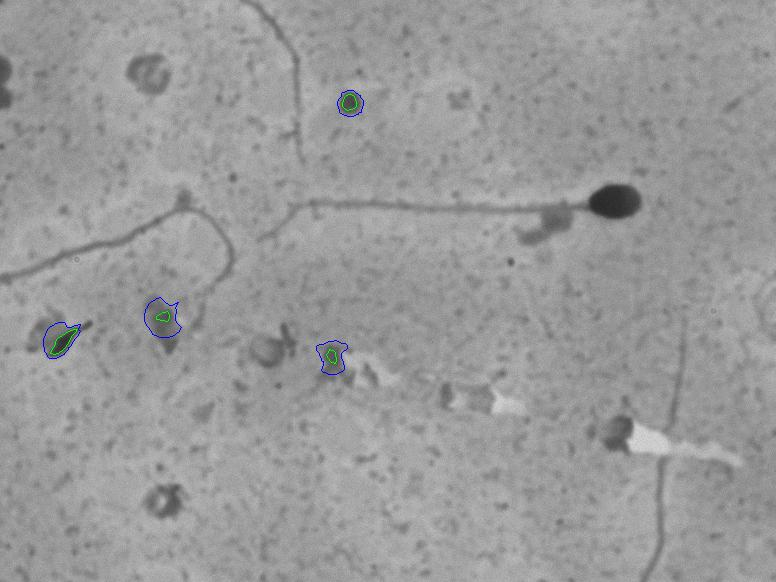Abnormal: (245, 148, 681, 311)
